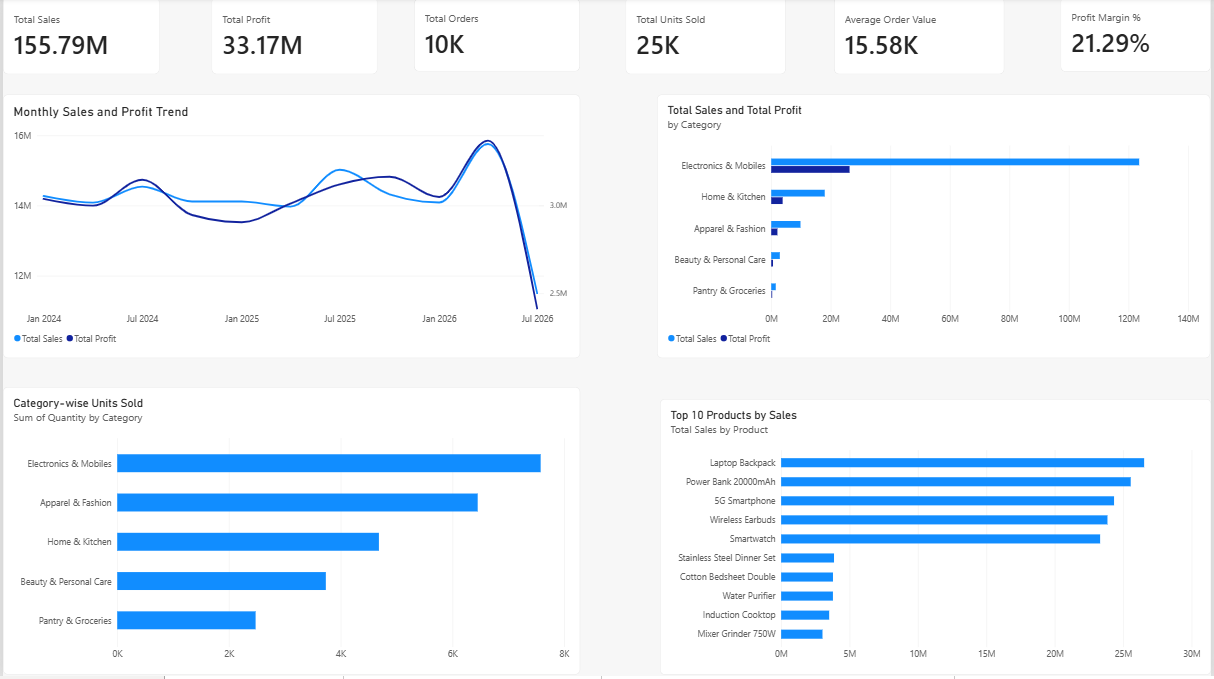

The page's visual inventory and layout, read from the dashboard file:
{"tool":"powerbi","page":{"name":"sales overview ","canvas":[1920,1080],"ordinal":0},"visuals":[{"type":"cardVisual","fields":{"Data":["Sheet1.Total Sales"]},"box":[0,0,249.2,123],"z":1},{"type":"cardVisual","fields":{"Data":["Sheet1.Total Profit"]},"box":[331.2,0,265,123],"z":2},{"type":"cardVisual","fields":{"Data":["Sheet1.Total Orders"]},"box":[653,3.2,265,116.7],"z":3},{"type":"cardVisual","fields":{"Data":["Sheet1.Total Units Sold"]},"box":[990.5,0,255.5,123],"z":4},{"type":"cardVisual","fields":{"Data":["Sheet1.Average Order Value"]},"box":[1321.7,0,271.3,123],"z":5},{"type":"cardVisual","fields":{"Data":["Sheet1.Profit Margin %"]},"box":[1681.3,0,239.7,119.9],"z":6},{"type":"lineChart","title":"Monthly Sales and Profit Trend","fields":{"Category":["Sheet1.Order_Date.Variation.Date Hierarchy.Year","Sheet1.Order_Date.Variation.Date Hierarchy.Quarter","Sheet1.Order_Date.Variation.Date Hierarchy.Month","Sheet1.Order_Date.Variation.Date Hierarchy.Day"],"Y":["Sheet1.Total Sales"],"Y2":["Sheet1.Total Profit"]},"box":[0,154.6,918,419.5],"z":7},{"type":"clusteredBarChart","fields":{"Category":["Sheet1.Category"],"Y":["Sheet1.Total Sales","Sheet1.Total Profit"]},"box":[1041,154.6,880.1,419.5],"z":8},{"type":"clusteredBarChart","title":"Category-wise Units Sold","fields":{"Category":["Sheet1.Category"],"Y":["Sum(Sheet1.Quantity)"]},"box":[0,621.4,918,457.4],"z":9},{"type":"clusteredBarChart","title":"Top 10 Products by Sales","fields":{"Category":["Sheet1.Product"],"Y":["Sheet1.Total Sales"]},"box":[1044.1,640.4,876.9,438.5],"z":10}]}

Visuals, with their boxes in screenshot pixels (x1, y1, x2, y2), scaled from the page's 1920x1080 canvas onto the 1214x679 screenshot:
cardVisual - Sheet1.Total Sales: box=[0, 0, 158, 77]
cardVisual - Sheet1.Total Profit: box=[209, 0, 377, 77]
cardVisual - Sheet1.Total Orders: box=[413, 2, 580, 75]
cardVisual - Sheet1.Total Units Sold: box=[626, 0, 788, 77]
cardVisual - Sheet1.Average Order Value: box=[836, 0, 1007, 77]
cardVisual - Sheet1.Profit Margin %: box=[1063, 0, 1213, 75]
"Monthly Sales and Profit Trend" lineChart: box=[0, 97, 580, 361]
clusteredBarChart - Sheet1.Category x Sheet1.Total Sales: box=[658, 97, 1213, 361]
"Category-wise Units Sold" clusteredBarChart: box=[0, 391, 580, 678]
"Top 10 Products by Sales" clusteredBarChart: box=[660, 403, 1213, 678]
